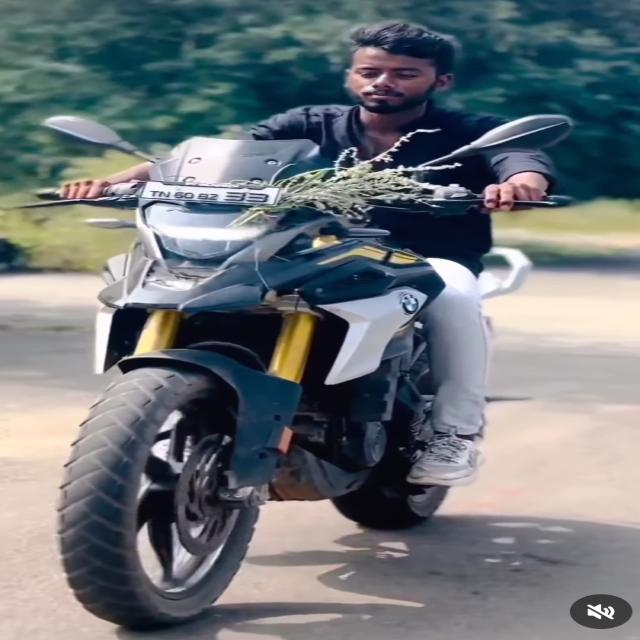Numberplate: (143, 182, 291, 205)
bike: (31, 62, 540, 640)
no_helmet: (336, 14, 482, 123)
